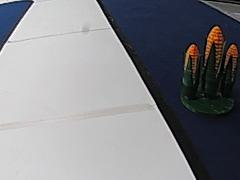corn: (178, 18, 239, 112)
